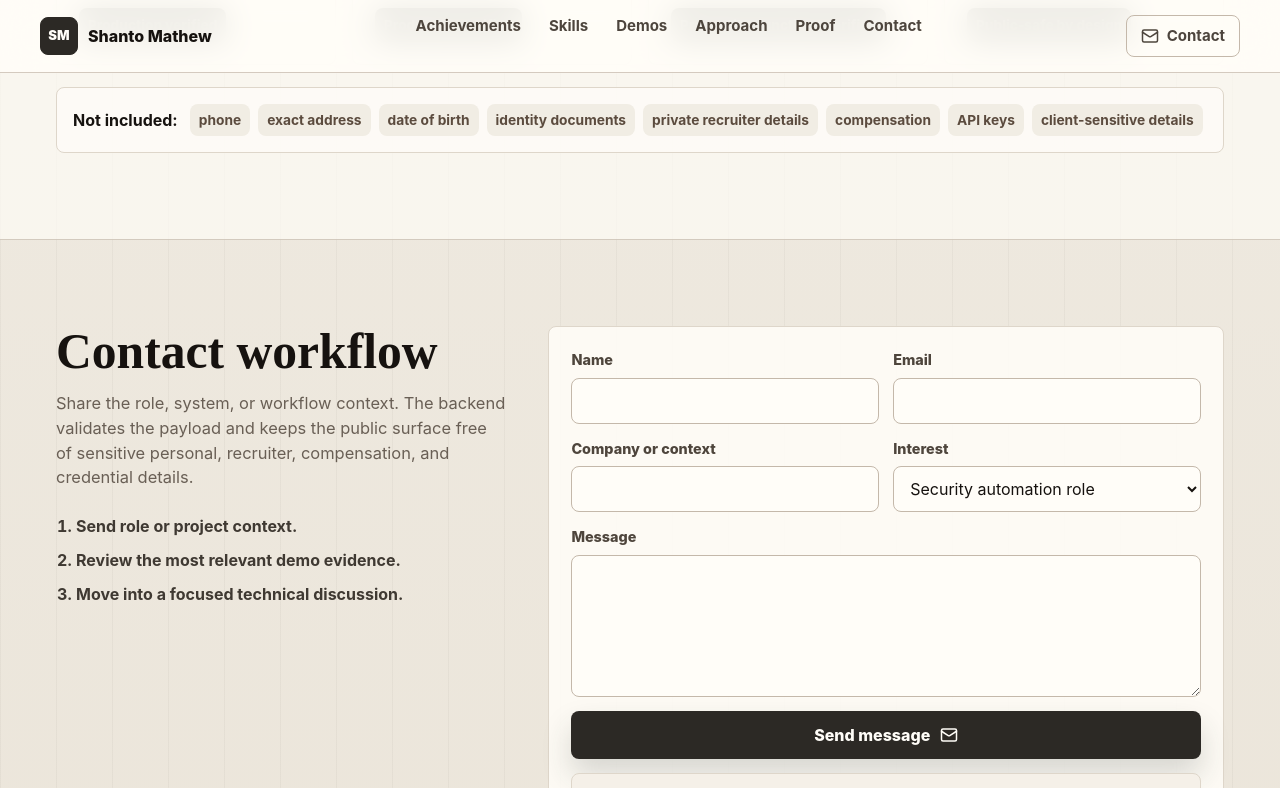
Test: App › submits contact workflow through the backend helper
(page scrolled)
Type "Avery Reviewer" into the field labelled "Name" at (725, 401), box [571,378,879,424]
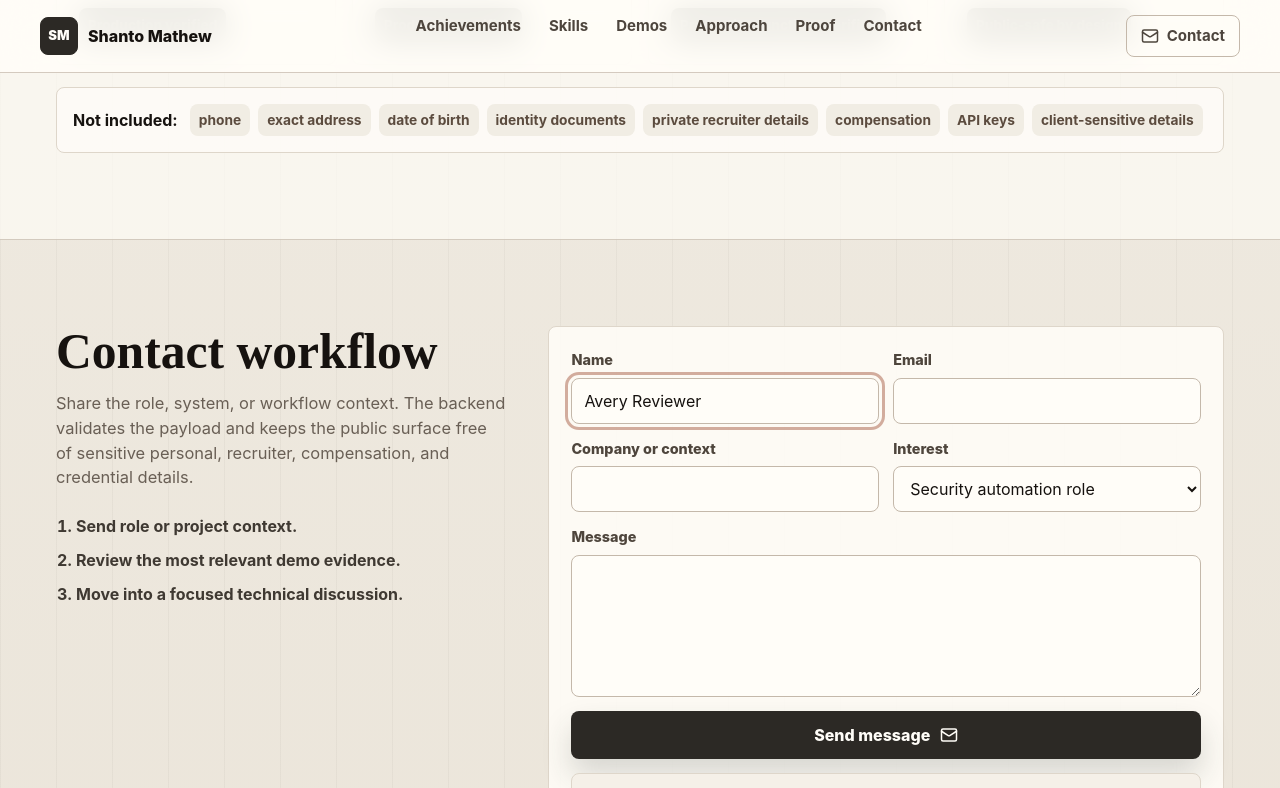
Type "avery@example.com" into the field labelled "Email" at (1047, 401), box [893,378,1201,424]
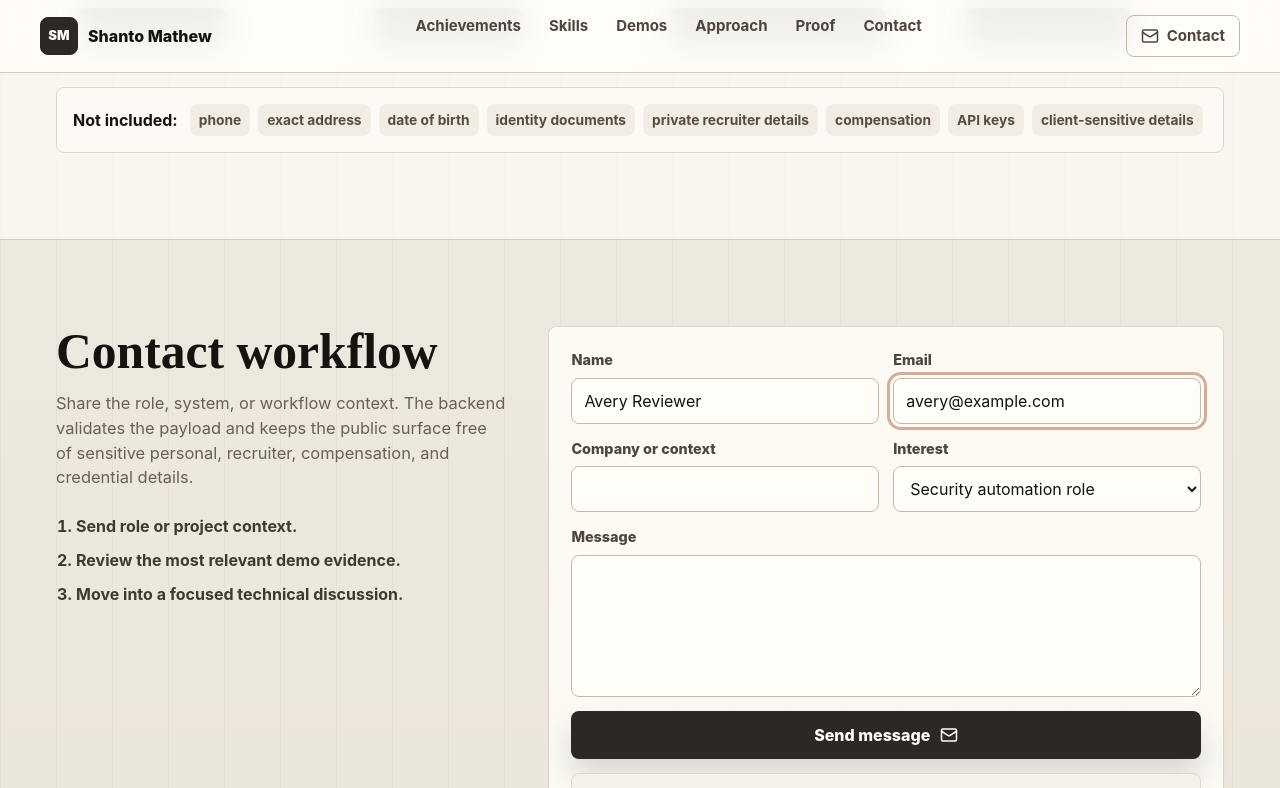
Type "Security platform team" into the field labelled "Company or context" at (725, 489), box [571,466,879,512]
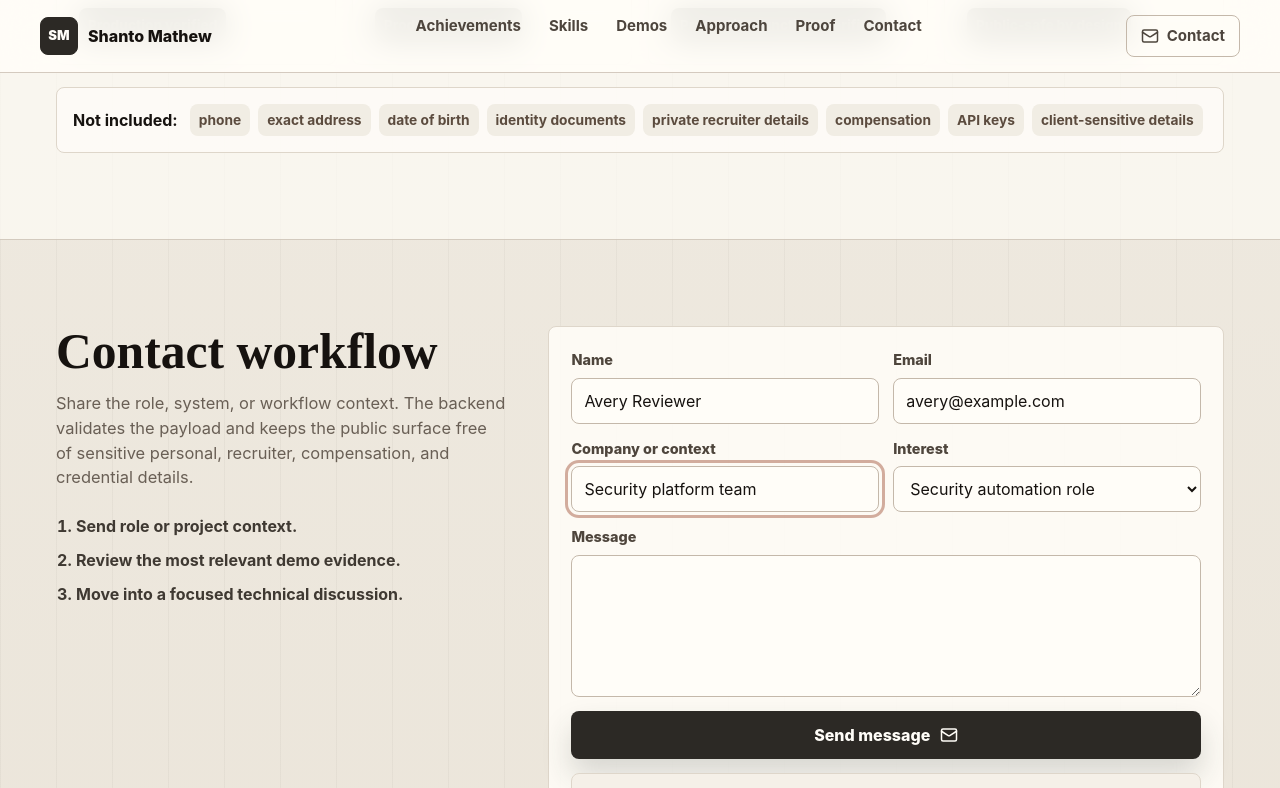
Type "I would like to discuss an AI security automation role." into the text box labelled "Message" at (886, 626), box [571,555,1201,697]
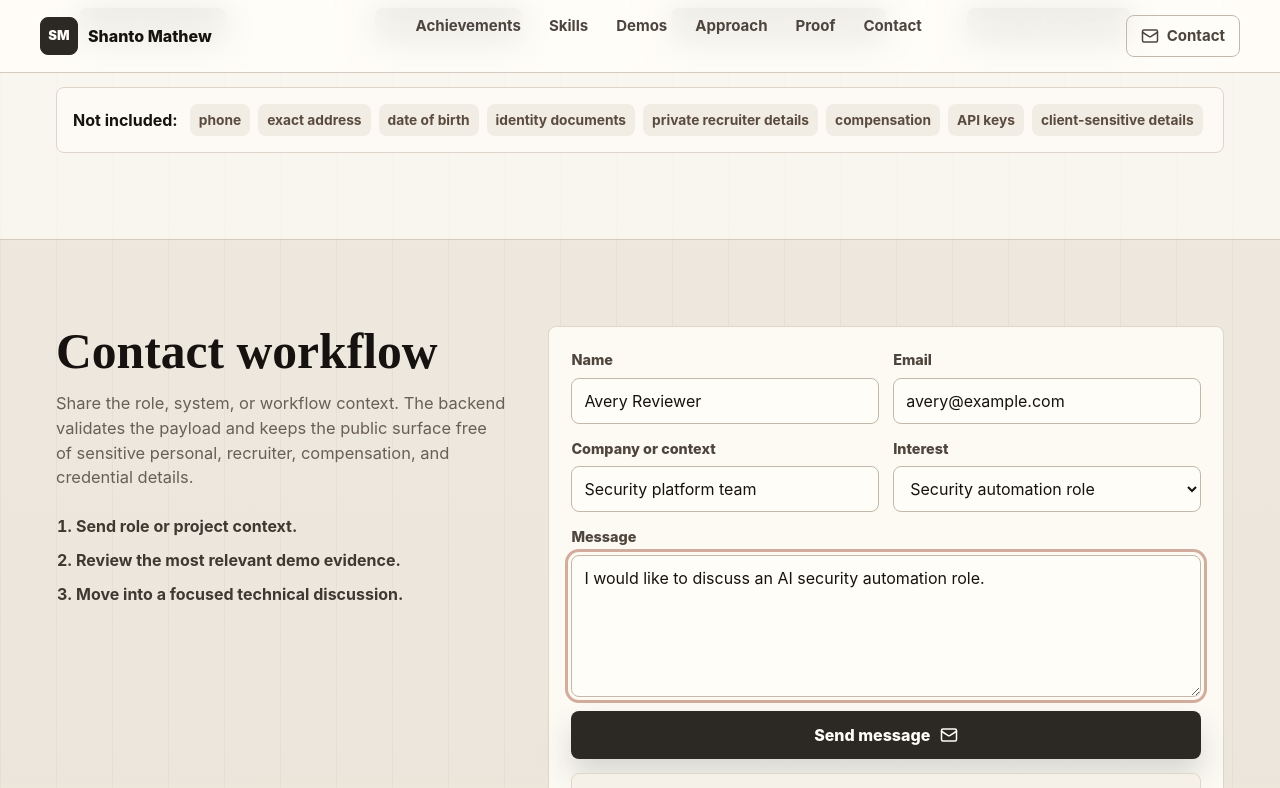
Click the button "Send message" at (886, 735), box [571,711,1201,759]
(page scrolled)
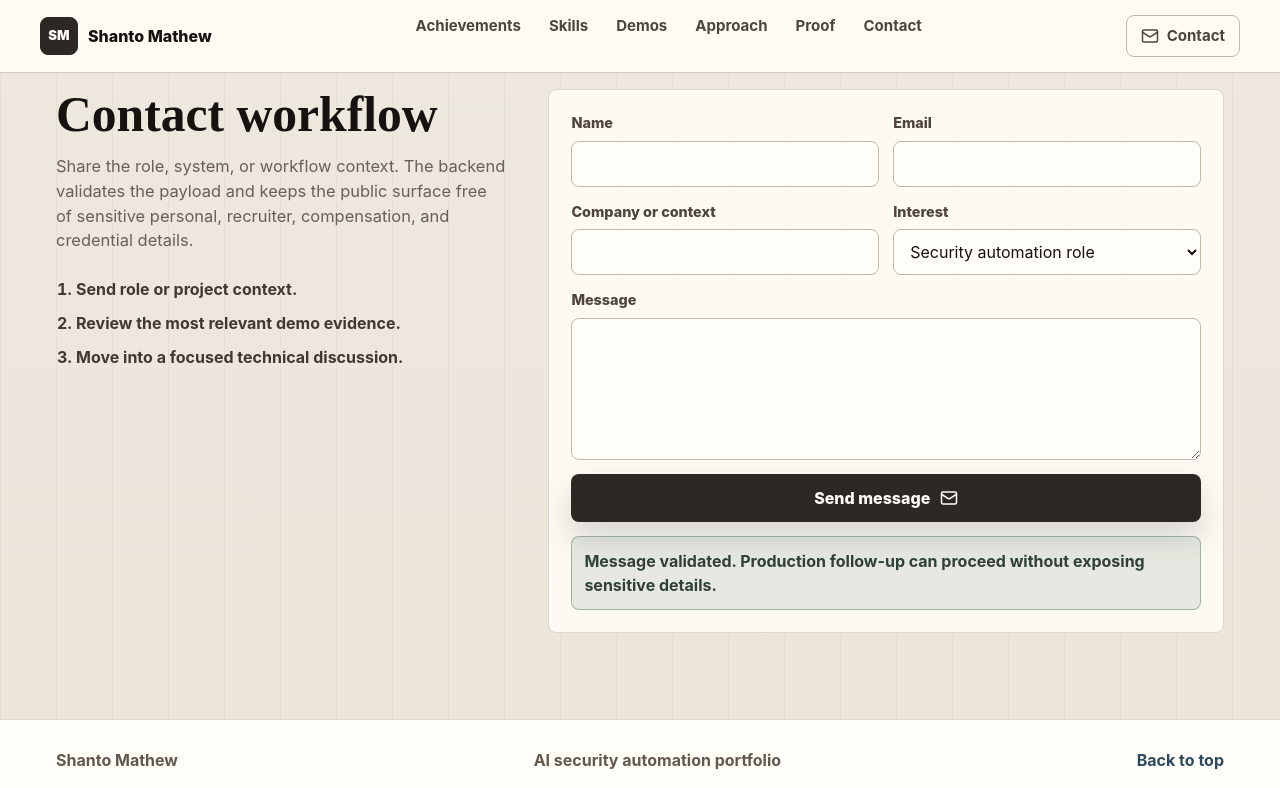
expect the message shows "Message validated": met, box [584,551,1145,595]
